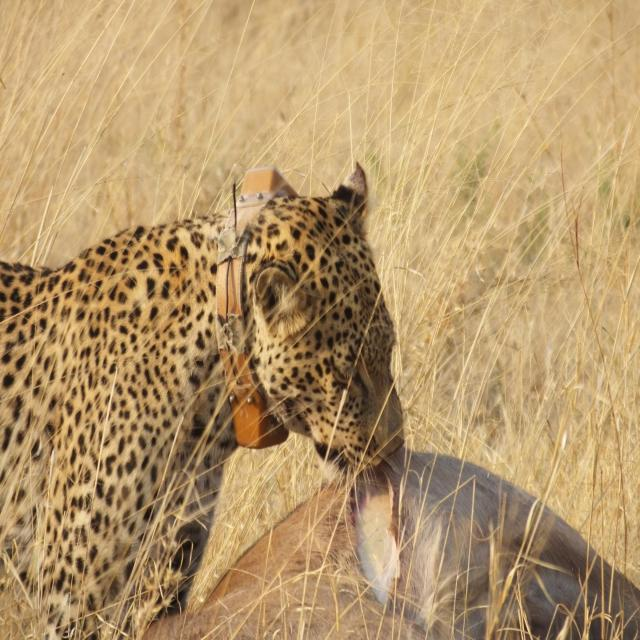Leopard: (9, 152, 403, 640)
